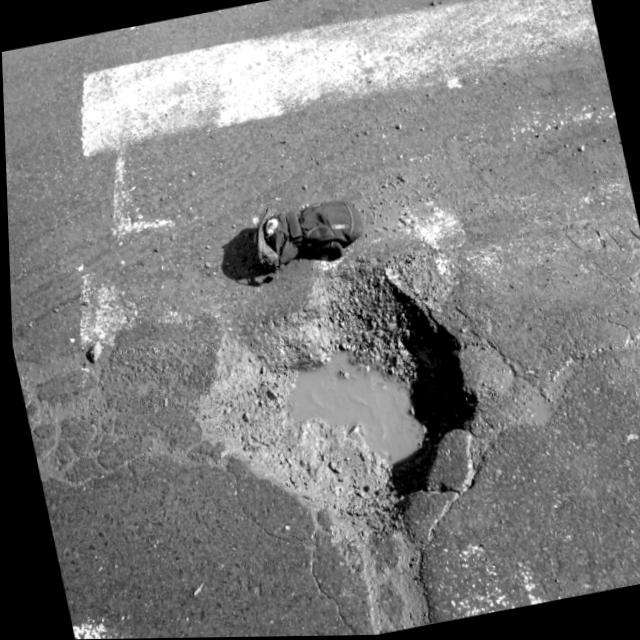pathole: (158, 182, 562, 637)
